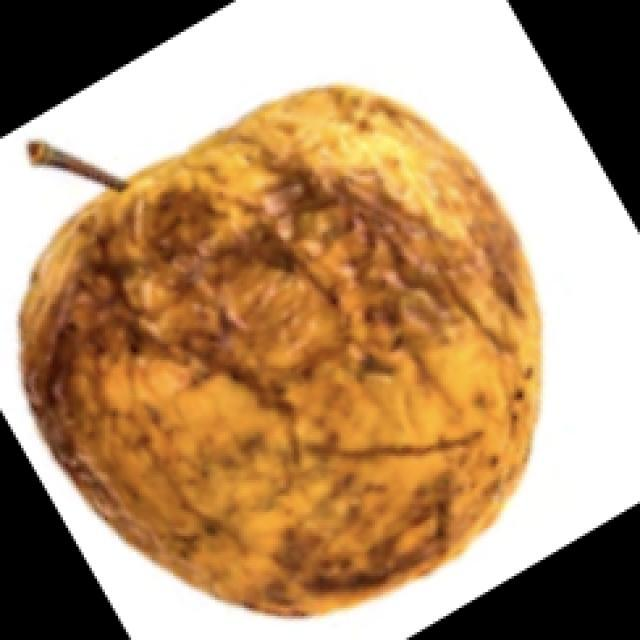Rotten: (45, 88, 537, 612)
